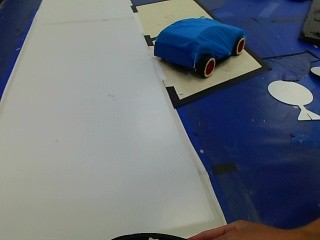car: (146, 14, 251, 81)
